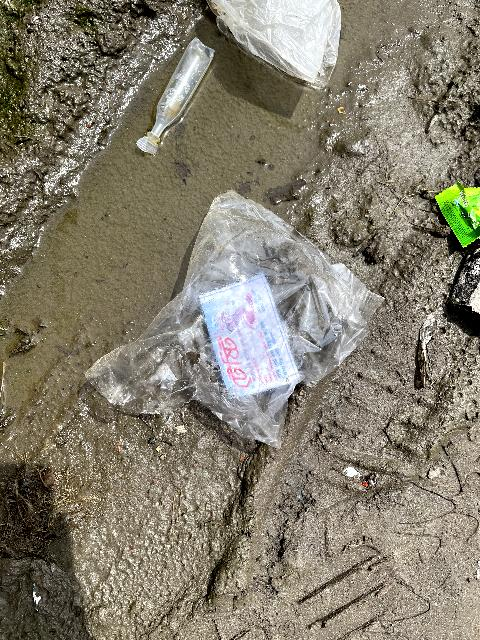polythene: (96, 228, 398, 437)
